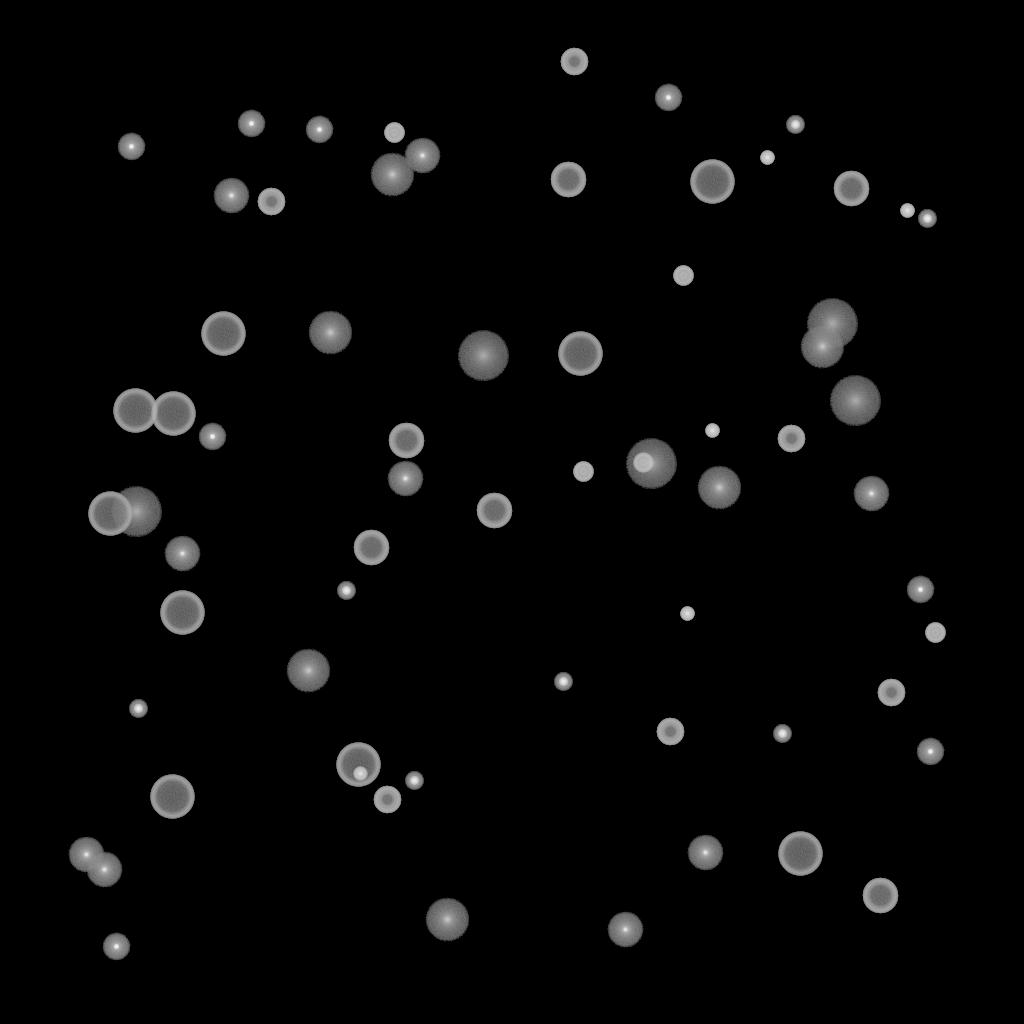depth:-10: (916, 738, 944, 766), (102, 933, 130, 961), (198, 423, 226, 451), (117, 133, 145, 161), (654, 84, 682, 112), (906, 576, 934, 604), (305, 116, 333, 144), (237, 110, 265, 138)
depth:-20: (129, 700, 147, 718), (405, 772, 423, 790), (554, 673, 572, 691), (337, 582, 355, 600), (773, 725, 791, 743), (918, 210, 936, 228), (786, 116, 804, 134)
depth:-30: (353, 767, 367, 781), (705, 424, 719, 438), (760, 151, 774, 165), (900, 204, 914, 218), (680, 607, 694, 621)
depth:-40: (925, 623, 945, 643), (384, 123, 404, 143), (673, 266, 693, 286), (573, 462, 593, 482), (633, 453, 653, 473)
depth:-50: (777, 425, 805, 453), (373, 786, 401, 814), (560, 48, 588, 76), (877, 679, 905, 707), (257, 188, 285, 216), (656, 718, 684, 746)
depth:-60: (353, 530, 389, 566), (862, 878, 898, 914), (833, 171, 869, 207), (388, 423, 424, 459), (550, 162, 586, 198), (476, 493, 512, 529)
depth:-70: (690, 160, 734, 204), (113, 389, 157, 433), (160, 591, 204, 635), (150, 775, 194, 819), (558, 332, 602, 376), (778, 832, 822, 876), (88, 492, 132, 536), (201, 312, 245, 356), (151, 392, 195, 436), (336, 743, 380, 787)
depth:0: (387, 461, 423, 497), (164, 536, 200, 572), (68, 837, 104, 873), (853, 476, 889, 512), (86, 852, 122, 888), (404, 138, 440, 174), (607, 912, 643, 948), (687, 835, 723, 871), (213, 178, 249, 214)
depth:10: (308, 311, 352, 355), (370, 153, 414, 197), (425, 898, 469, 942), (697, 466, 741, 510), (286, 649, 330, 693), (800, 325, 844, 369)
depth:20: (829, 376, 881, 426), (110, 487, 162, 537), (457, 331, 509, 381), (625, 439, 677, 489), (806, 299, 858, 349)
